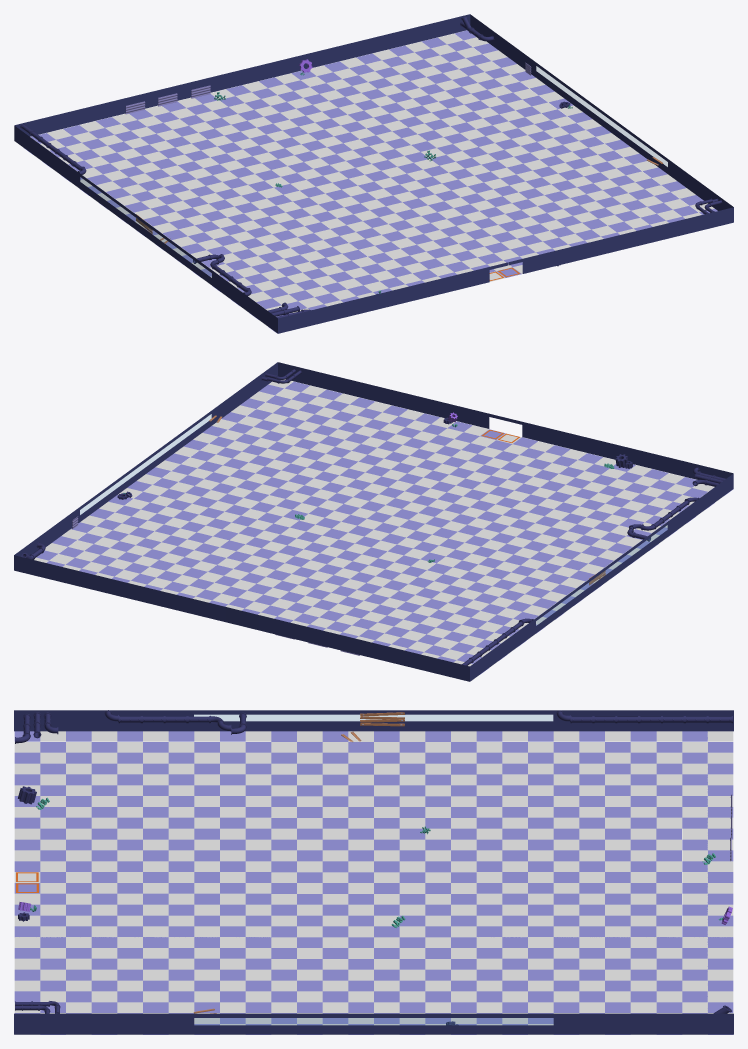
The model's file is ConveyorLevel.glb.
3 views of the same model, one above another, from view 1: azimuth 30°, elevation 25°; view 2: azimuth 150°, elevation 25°; view 3: azimuth 270°, elevation 25° (orthographic). The views are drawn at different scales.
Visible parts, largest first — view 1: Room.002; view 2: Room.002; view 3: Room.002, barricade-window-b.002.
Boxes of the visible parts, box(x1,y1,x2,y2) form: Room.002: box(14, 14, 733, 333); Room.002: box(14, 362, 733, 681); Room.002: box(14, 710, 733, 1034); barricade-window-b.002: box(360, 712, 404, 726).
Size of the model in its own units: 70.04 by 2.89 by 70.1.
11 materials, 2 textured.
